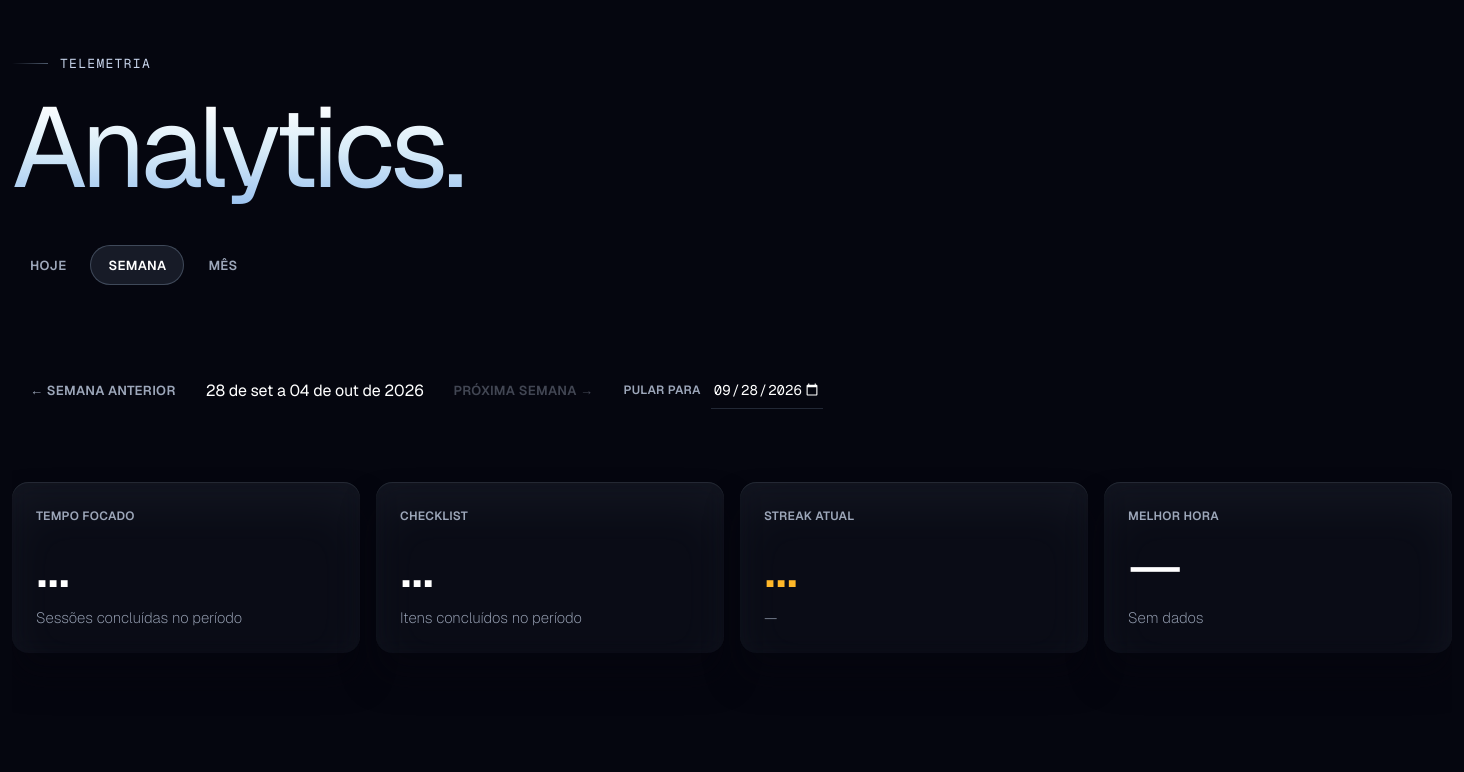
Test: queries the chosen month for all focus charts
This screenshot has width=1464, height=772.
Click the button "Mês" at (223, 265), box [190,245,256,285]
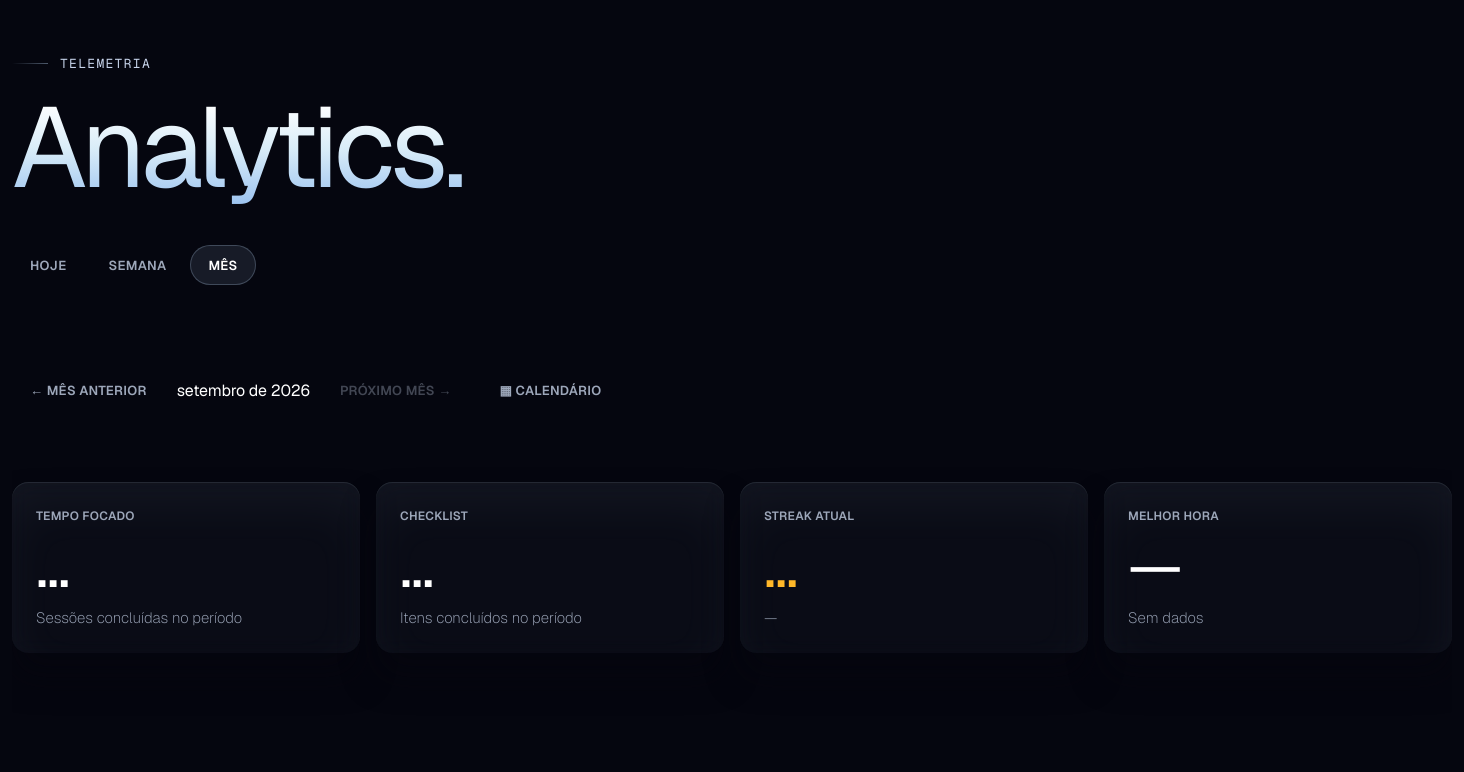
Click the button "← Mês anterior" at (88, 390), box [12,370,165,410]
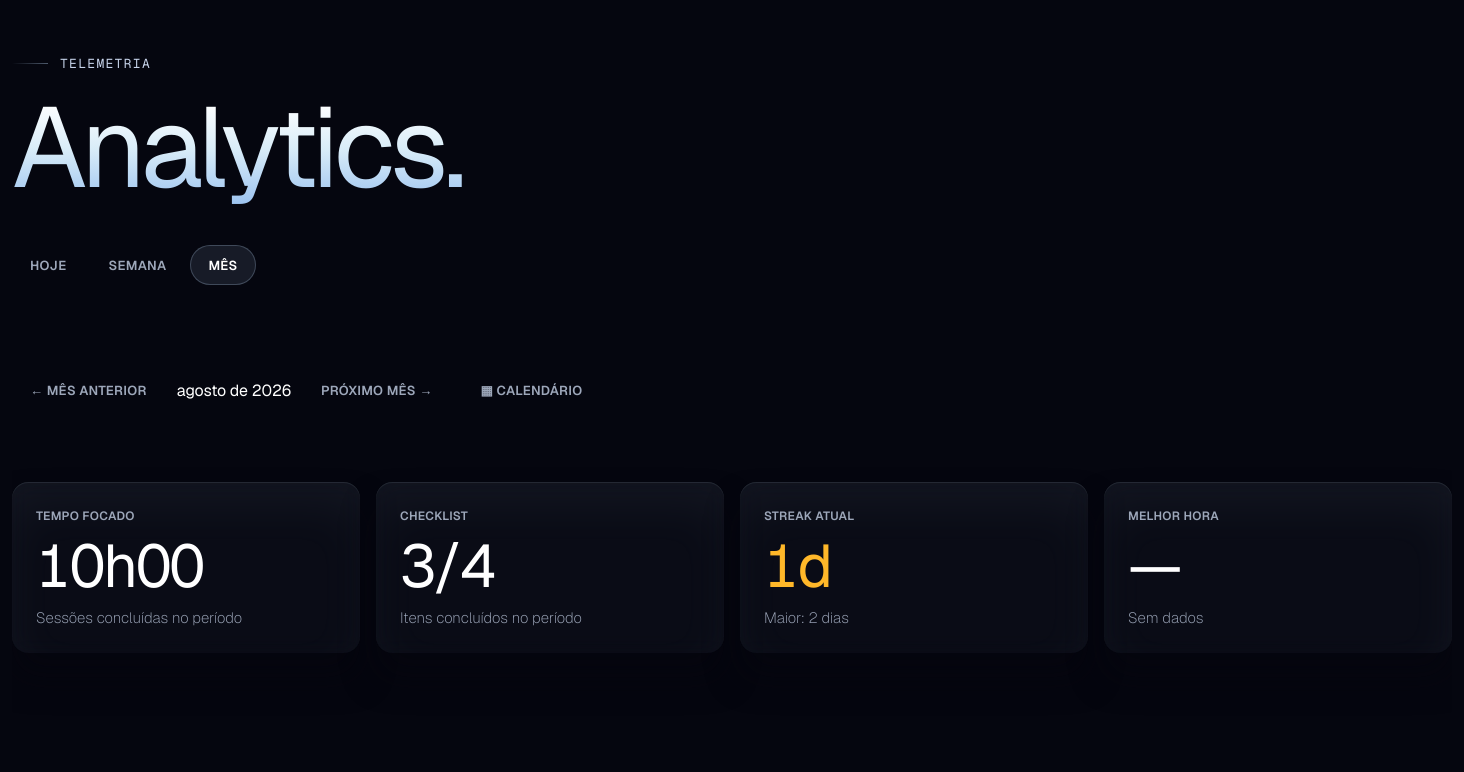
Expected: the text "agosto de 2026" is shown, [177,380,291,400]
